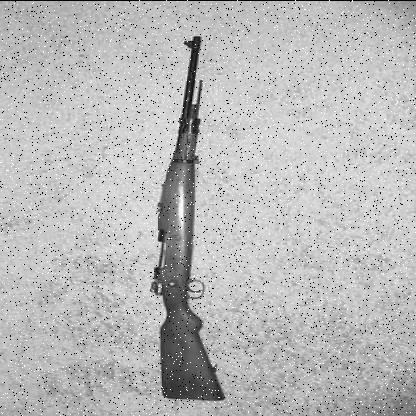rifle: (106, 23, 277, 403)
